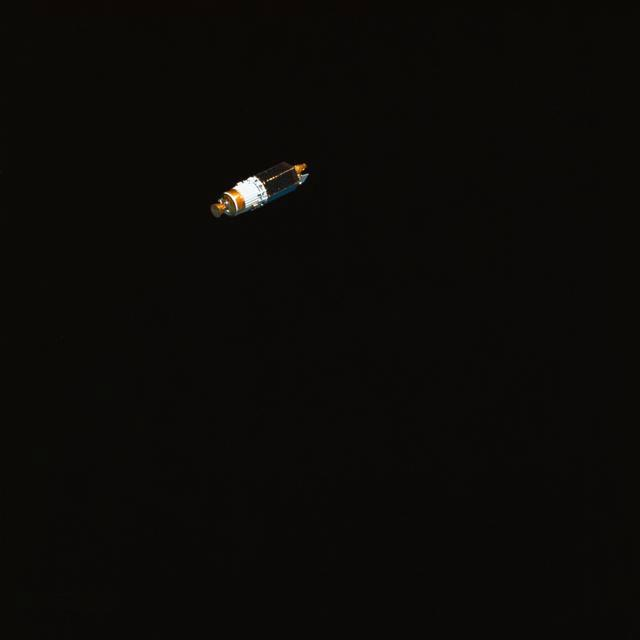medium_debris: (211, 162, 306, 217)
